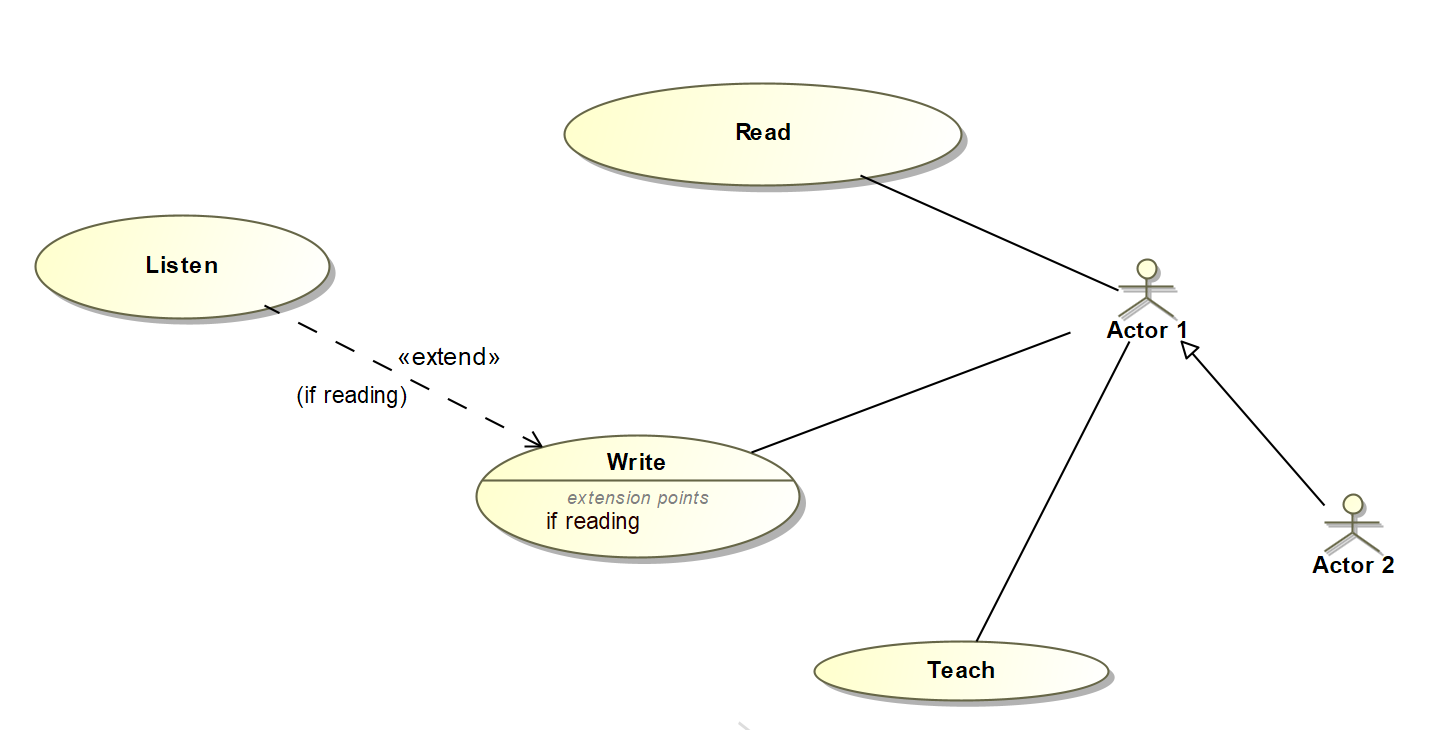actor: (1324, 490, 1386, 560), (1119, 254, 1174, 324)
association: (977, 338, 1130, 637), (750, 326, 1073, 454), (266, 305, 542, 450), (863, 175, 1119, 291), (1179, 338, 1326, 509)
text: (513, 485, 721, 537), (292, 379, 414, 415), (397, 339, 510, 370), (137, 249, 224, 285), (590, 446, 691, 477), (721, 112, 797, 153), (917, 656, 1000, 685), (1103, 317, 1197, 342), (1309, 554, 1399, 578)
use_case: (561, 79, 965, 192), (470, 431, 803, 560), (33, 212, 333, 324), (810, 637, 1113, 707)
